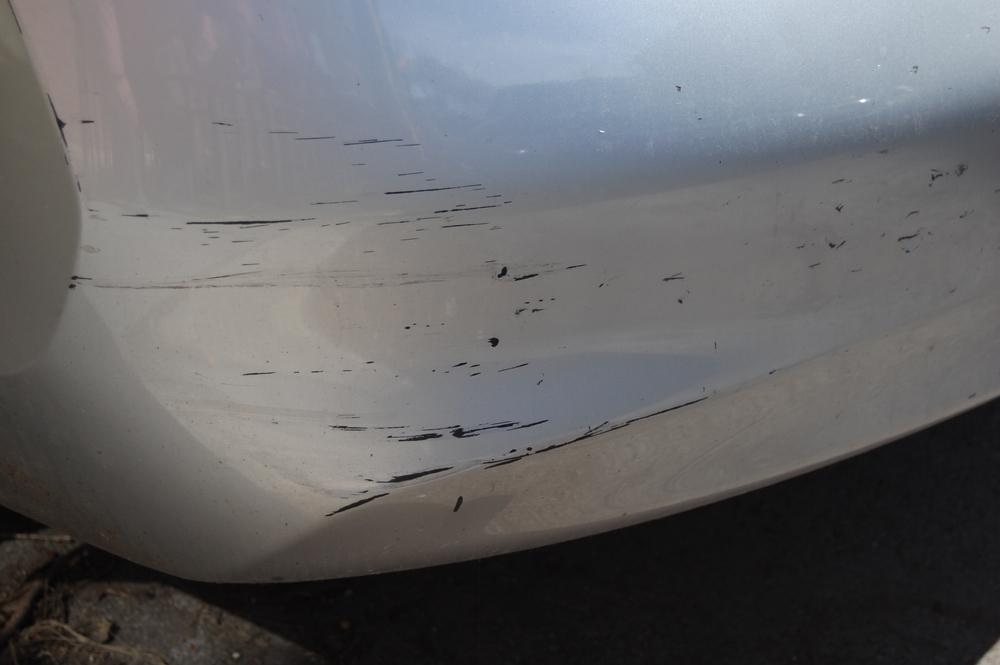scratch: (42, 97, 727, 525)
